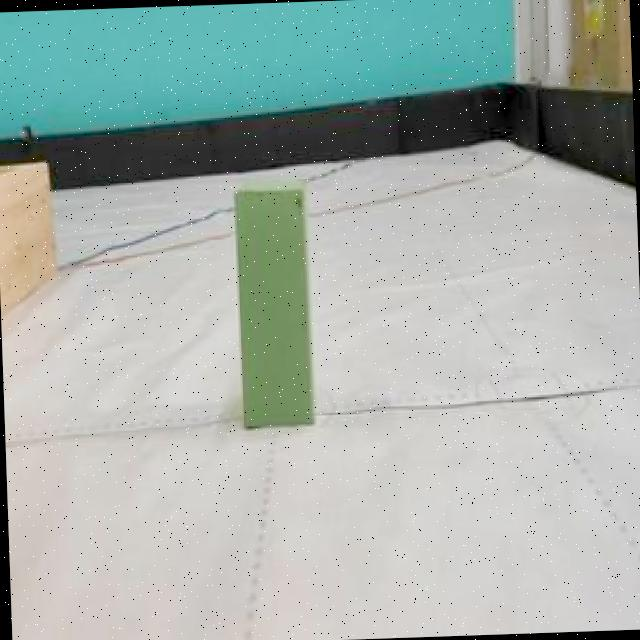greenbox: (224, 178, 319, 427)
